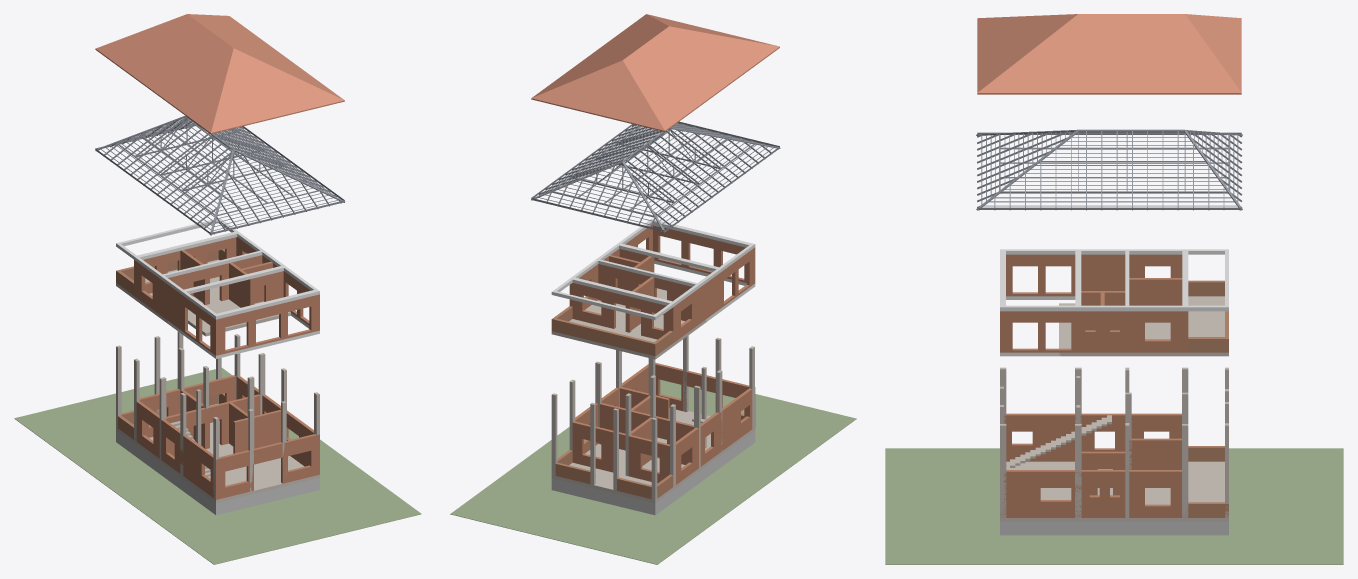
Rendered from konkan_house_exploded.glb.
3 views of the same model, side by side, from view 1: azimuth 30°, elevation 25°; view 2: azimuth 150°, elevation 25°; view 3: azimuth 270°, elevation 25° (orthographic). The views are drawn at different scales.
Visible parts, largest first — view 1: Ground, Hip_Roof, Living_Kitchen_South, Plinth, Floor_Slab_0, Living_Kitchen_2_South, Living_Kitchen_West, Living_Kitchen_2_West, Workshop_South, Bedroom_1_West, Living_Kitchen_East, Bathroom_1_South (+22 smaller); view 2: Ground, Hip_Roof, Plinth, Living_Kitchen_West, Floor_Slab_0, Living_Kitchen_2_South, Living_Kitchen_South, Workshop_North, Upper_Verandah_North, Bedroom_3_North, Floor_Slab_1, Bedroom_1_North (+20 smaller); view 3: Ground, Hip_Roof, Living_Kitchen_East, Living_Kitchen_West, Floor_Slab_0, Plinth, Floor_Slab_1, Workshop_East, Living_Kitchen_2_East, Bedroom_3_East, Bathroom_2_East, Living_Kitchen_2_West (+18 smaller).
Boxes of the visible parts, x1,y1,x2,y2 form: Ground: (14,368,421,564); Hip_Roof: (95,14,344,133); Living_Kitchen_South: (216,434,319,499); Plinth: (116,430,319,515); Floor_Slab_0: (116,403,319,502); Living_Kitchen_2_South: (219,295,316,354); Living_Kitchen_West: (161,419,214,498); Living_Kitchen_2_West: (182,295,218,355); Workshop_South: (206,394,260,448); Bedroom_1_West: (136,401,159,458); Living_Kitchen_East: (262,394,314,466); Bathroom_1_South: (254,409,280,448); Ground: (450,379,856,564); Hip_Roof: (531,14,779,131); Plinth: (551,430,755,515); Living_Kitchen_West: (700,388,752,466); Floor_Slab_0: (551,408,755,503); Living_Kitchen_2_South: (653,225,755,284); Living_Kitchen_South: (655,362,755,426); Workshop_North: (572,421,625,472); Upper_Verandah_North: (551,318,657,356); Bedroom_3_North: (569,283,628,330); Floor_Slab_1: (551,300,706,359); Bedroom_1_North: (628,435,669,483); Ground: (885,448,1343,564); Hip_Roof: (977,14,1241,94); Living_Kitchen_East: (1004,470,1125,517); Living_Kitchen_West: (1004,413,1125,461); Floor_Slab_0: (1000,461,1228,521); Plinth: (1000,521,1228,535); Floor_Slab_1: (1110,296,1228,356); Workshop_East: (1129,470,1183,517); Living_Kitchen_2_East: (1000,311,1076,352); Bedroom_3_East: (1129,311,1184,352); Bathroom_2_East: (1080,311,1125,352); Living_Kitchen_2_West: (1006,254,1075,296).
Size of the model in its own units: 54 by 107 by 90.
